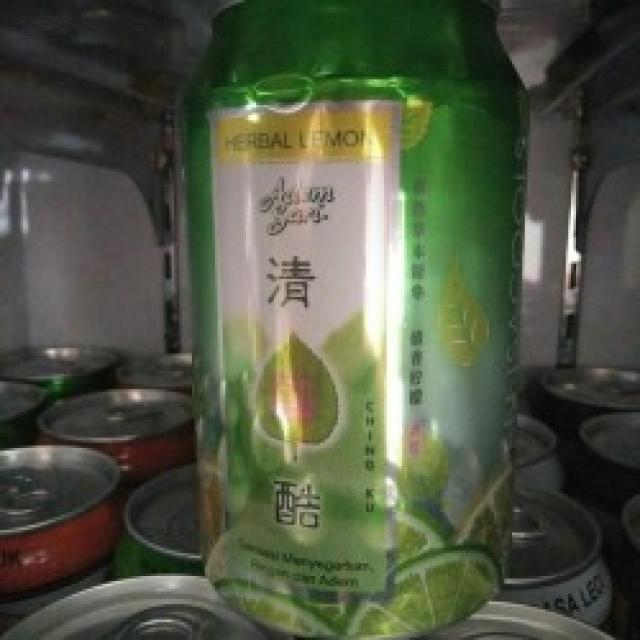ademsarikaleng: (174, 0, 530, 637)
